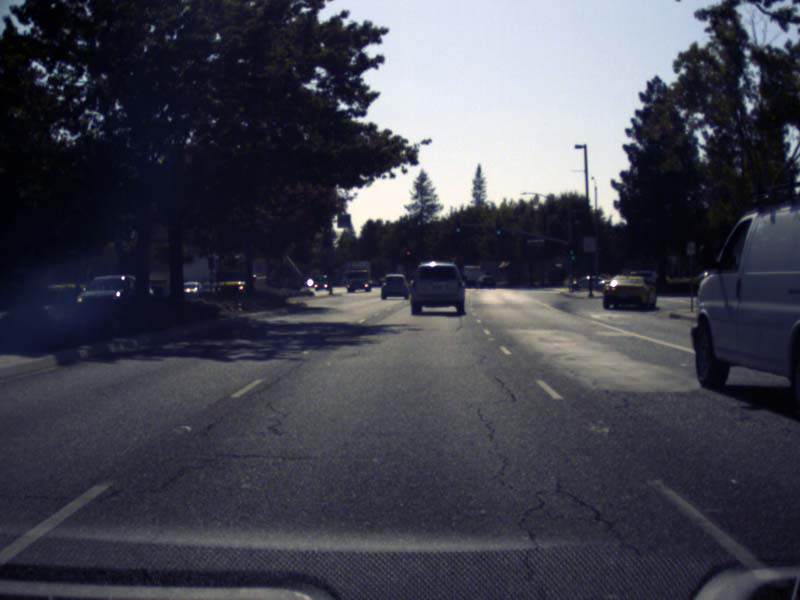Green: (568, 242, 574, 255), (496, 222, 501, 235), (455, 221, 460, 233)
Red: (406, 250, 410, 261)
